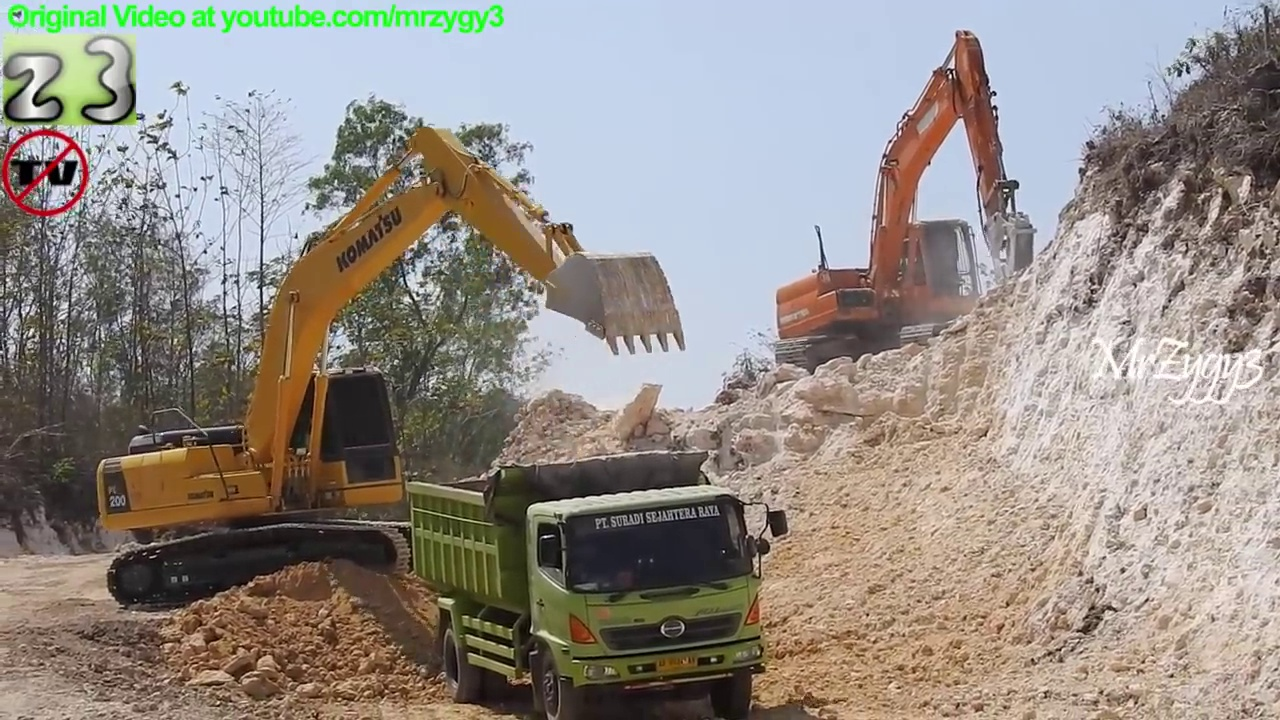excavator: (91, 124, 698, 620), (768, 23, 1046, 386)
truck: (403, 447, 796, 720)
